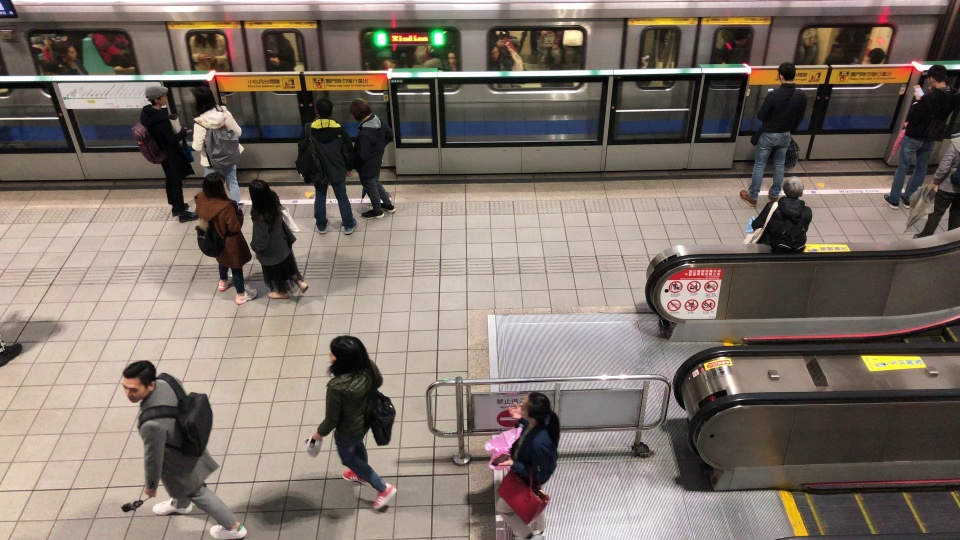person_head: (322, 333, 370, 374), (122, 360, 158, 404), (519, 390, 551, 428), (200, 171, 232, 205), (245, 176, 278, 208), (188, 84, 218, 112), (347, 95, 374, 123), (781, 175, 806, 203), (140, 84, 170, 106), (773, 60, 798, 86), (926, 62, 948, 88), (313, 99, 336, 118)
person_vbox: (102, 359, 248, 540), (297, 333, 405, 511), (475, 390, 563, 540), (876, 61, 958, 211), (122, 84, 200, 225), (736, 60, 809, 204), (181, 171, 258, 305), (287, 97, 357, 236), (234, 176, 310, 302), (178, 84, 247, 207), (340, 96, 397, 221), (899, 126, 960, 240), (744, 175, 813, 255)
